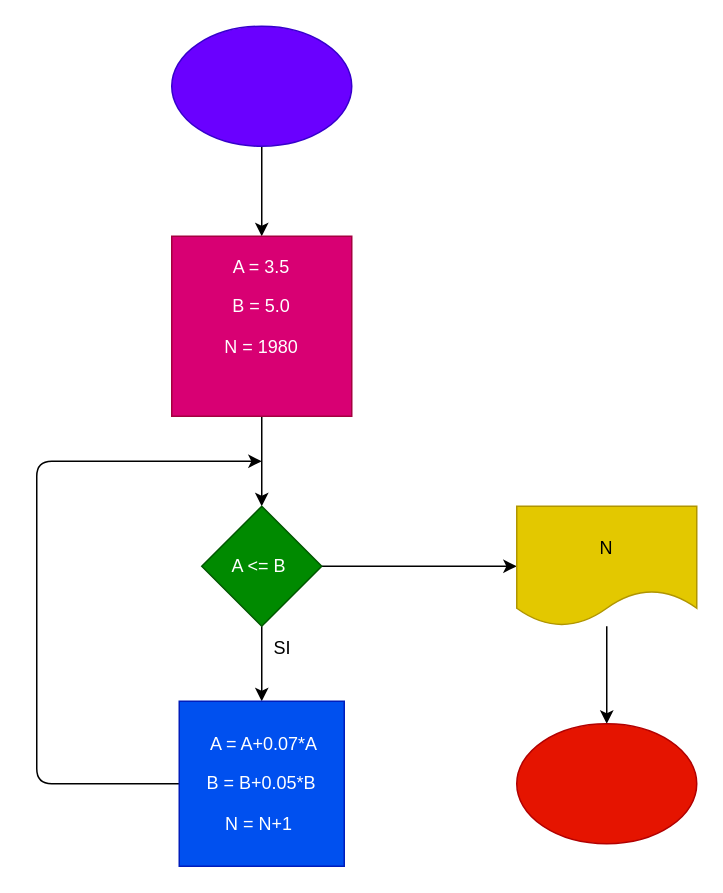
Image size: 723x893. Some labels were removed from this diagram. The centre of each missing label's shape, as x and y in pixels:
FIN: the point at 606,783
INICIO: the point at 261,85
